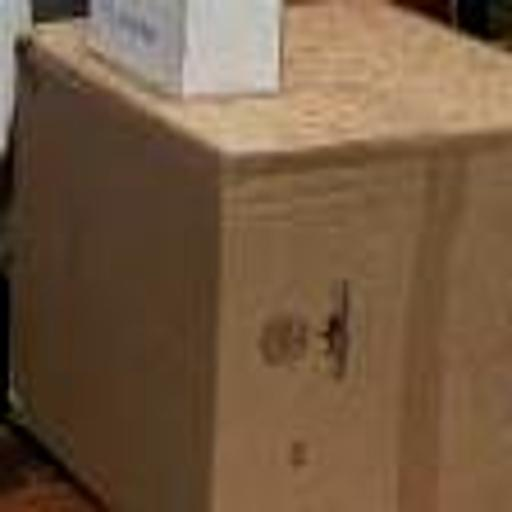Other: (18, 15, 512, 510), (80, 0, 289, 98)
